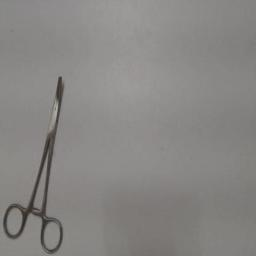Crile Artery Forceps: (2, 72, 66, 254)
